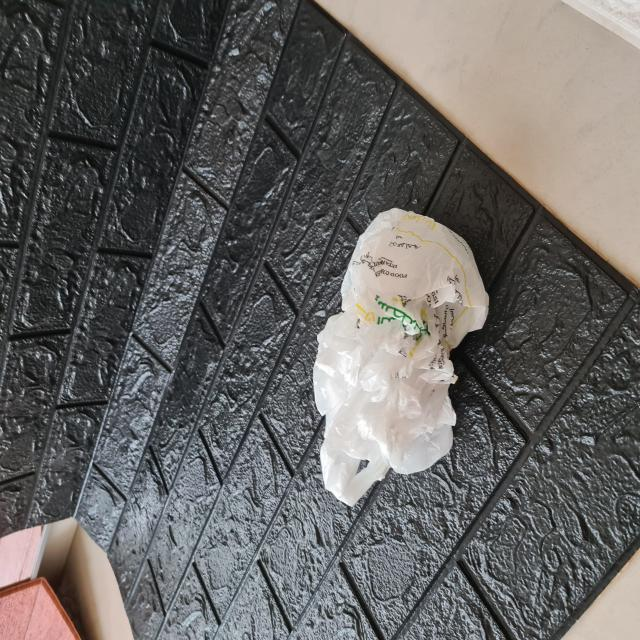plastic bag: (310, 204, 490, 508)
